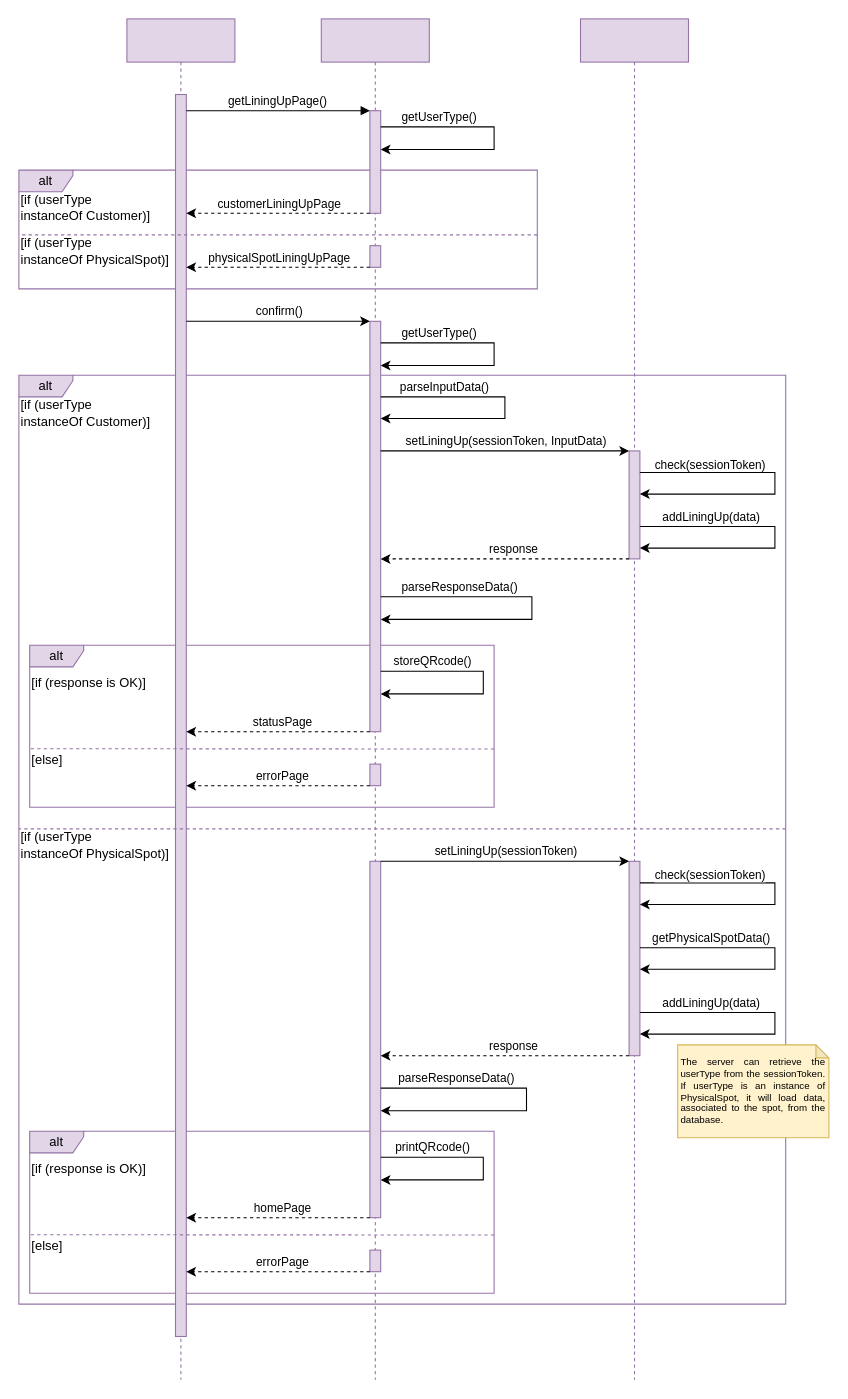
Image size: 848x1399. Some labels were removed from this diagram. The box of each missing label's shape, as (x1, y1, x2, y2) in pixels:
:CLup App: (320, 18, 429, 1380)
:CLup Server-Database: (579, 18, 688, 1380)
:User: (126, 18, 235, 1380)
